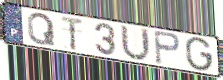3: (93, 22, 117, 57)
G: (184, 36, 213, 73)
P: (153, 29, 183, 67)
Q: (27, 12, 57, 47)
T: (60, 15, 85, 52)
U: (119, 23, 153, 63)
